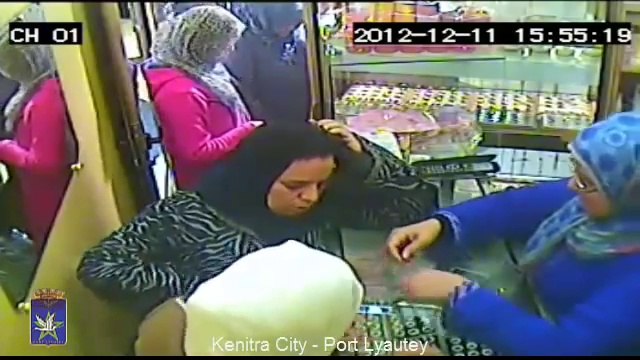face: (257, 157, 330, 218), (565, 154, 613, 217)
